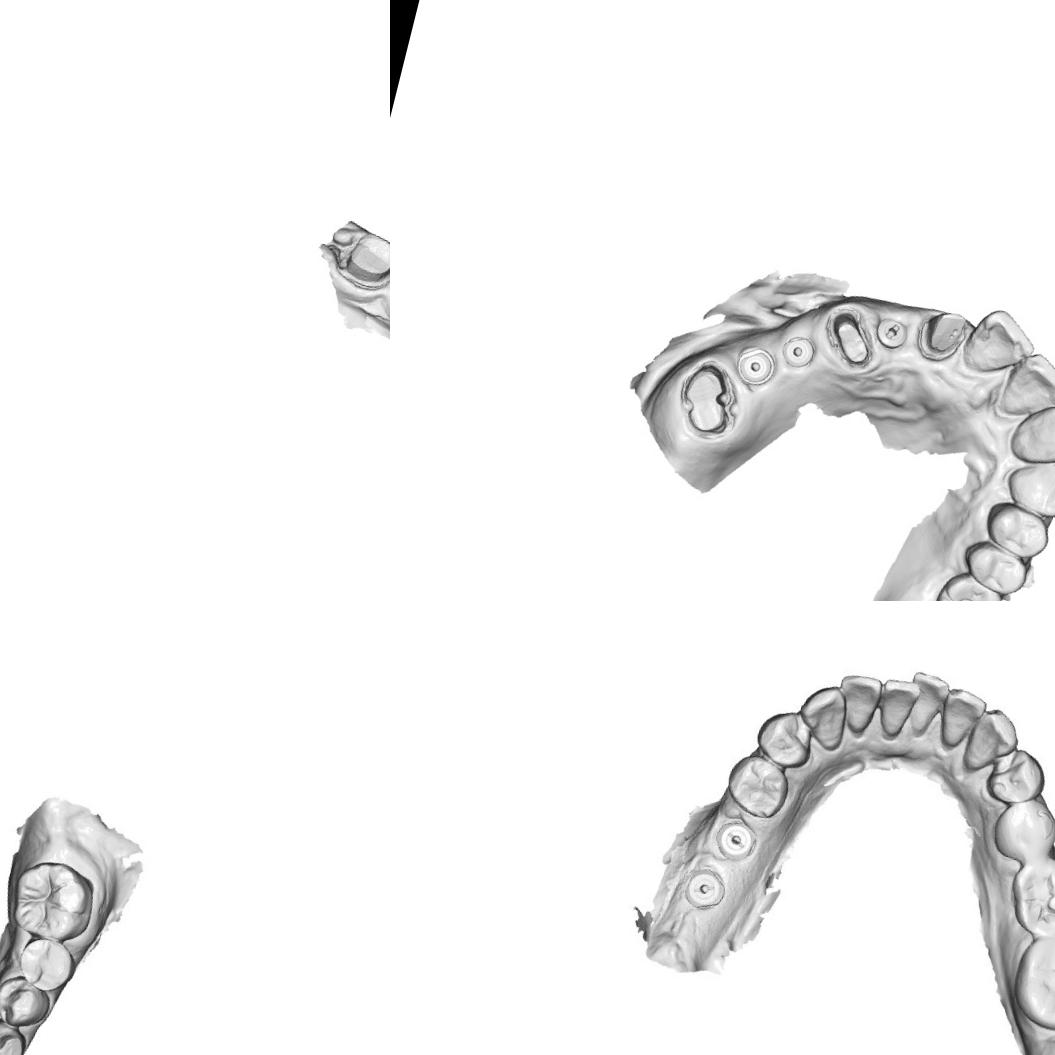canine: (961, 700, 1022, 780), (790, 679, 850, 753), (998, 449, 1055, 525), (0, 1015, 29, 1055)
crown: (673, 356, 746, 442), (330, 221, 390, 294), (820, 302, 881, 371), (916, 303, 970, 365)
implant: (730, 340, 780, 392), (776, 330, 821, 374)
implant_minus: (712, 816, 762, 868), (680, 864, 728, 910), (870, 310, 913, 354)
incisor: (955, 299, 1044, 387), (991, 343, 1055, 428), (896, 664, 954, 744), (1003, 395, 1055, 472), (869, 674, 922, 746), (830, 671, 884, 740), (932, 684, 985, 754)
molar: (3, 850, 98, 948), (1002, 924, 1055, 1039), (999, 848, 1055, 939), (927, 564, 1006, 601)
premolar: (986, 787, 1055, 869), (718, 748, 792, 823), (977, 496, 1055, 565), (981, 740, 1050, 816), (954, 536, 1032, 601), (9, 928, 78, 1000), (748, 705, 820, 774), (0, 967, 58, 1042)
